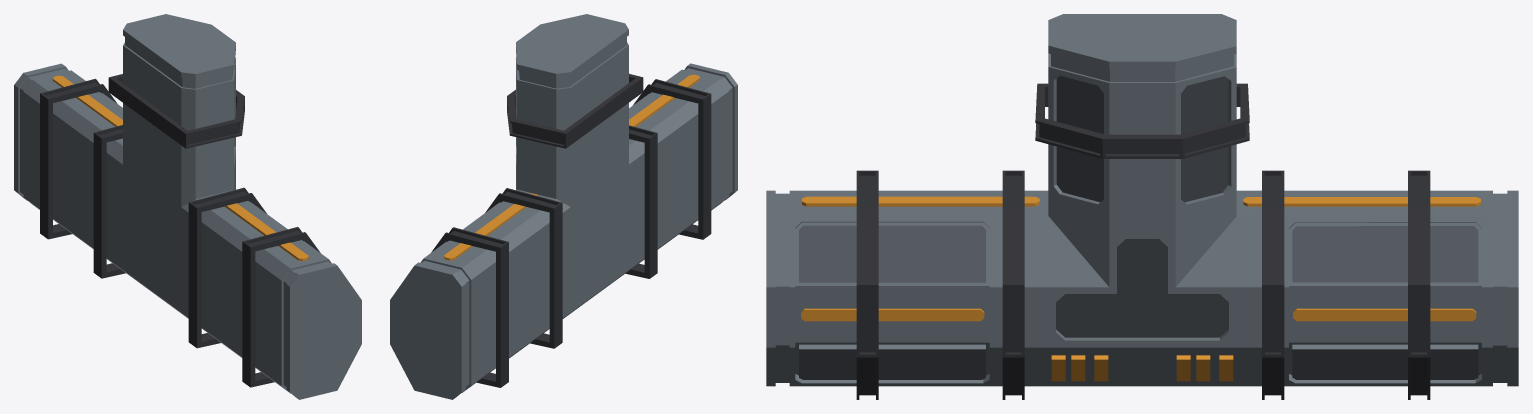
File: SM_Roof_ventilation_T-shaped.glb
The picture shows the model from 3 angles, left to right: view 1: azimuth 30°, elevation 25°; view 2: azimuth 150°, elevation 25°; view 3: azimuth 270°, elevation 25°; orthographic projection. The views are drawn at different scales.
Visible parts, largest first — view 1: SM_Roof_ventilation_T-shaped; view 2: SM_Roof_ventilation_T-shaped; view 3: SM_Roof_ventilation_T-shaped.
Part boxes in pixels (x1,y1,x2,y2): SM_Roof_ventilation_T-shaped: (14,14,361,399); SM_Roof_ventilation_T-shaped: (390,14,737,399); SM_Roof_ventilation_T-shaped: (766,14,1518,399).
Bounding box in the file's own units: 0.3544 × 1.04 × 2.
Materials: 1 (1 with a texture image).
